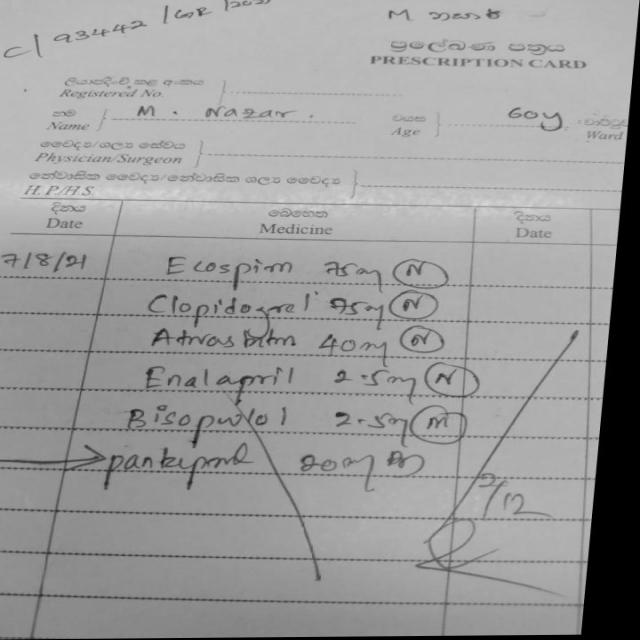Prescription: (115, 443, 438, 488), (146, 360, 492, 402), (124, 401, 481, 440), (163, 252, 465, 290), (150, 290, 447, 324), (153, 326, 453, 358)
